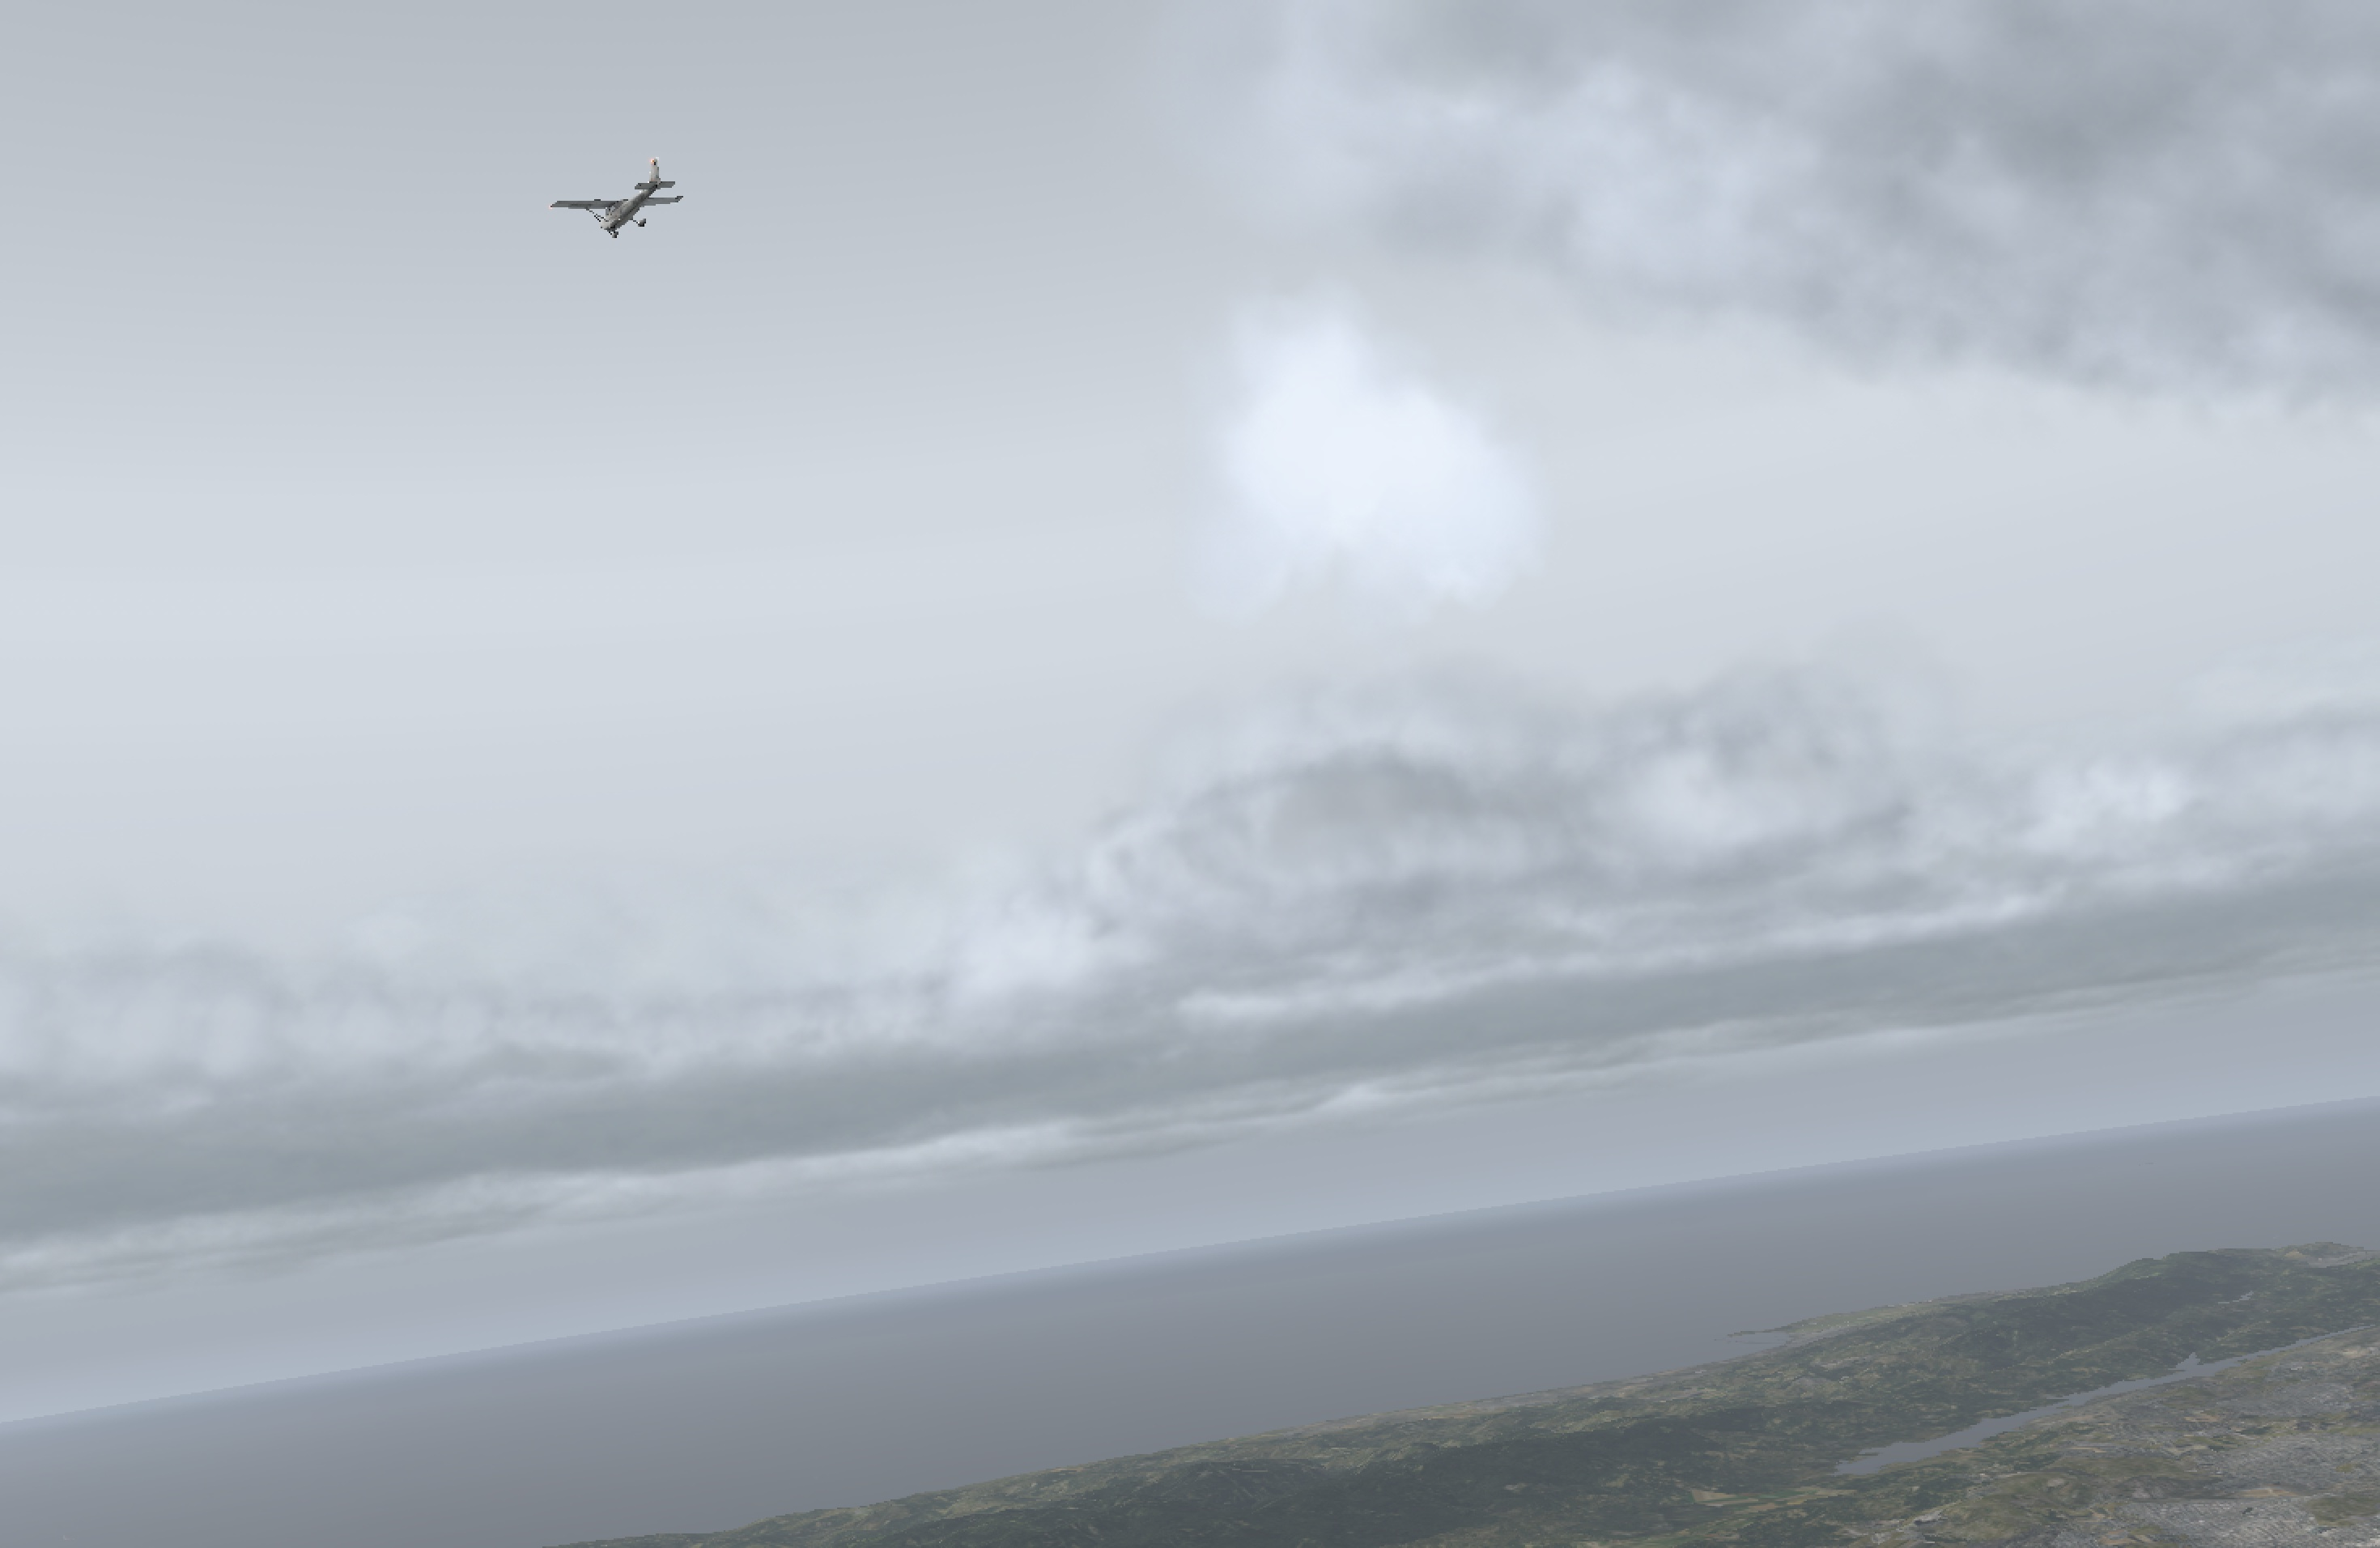aircraft: (567, 193, 671, 233)
